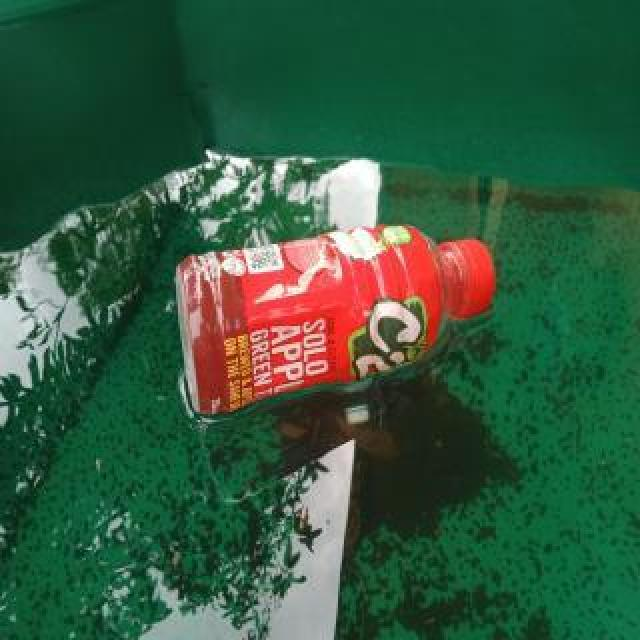bottle: (176, 217, 494, 423)
